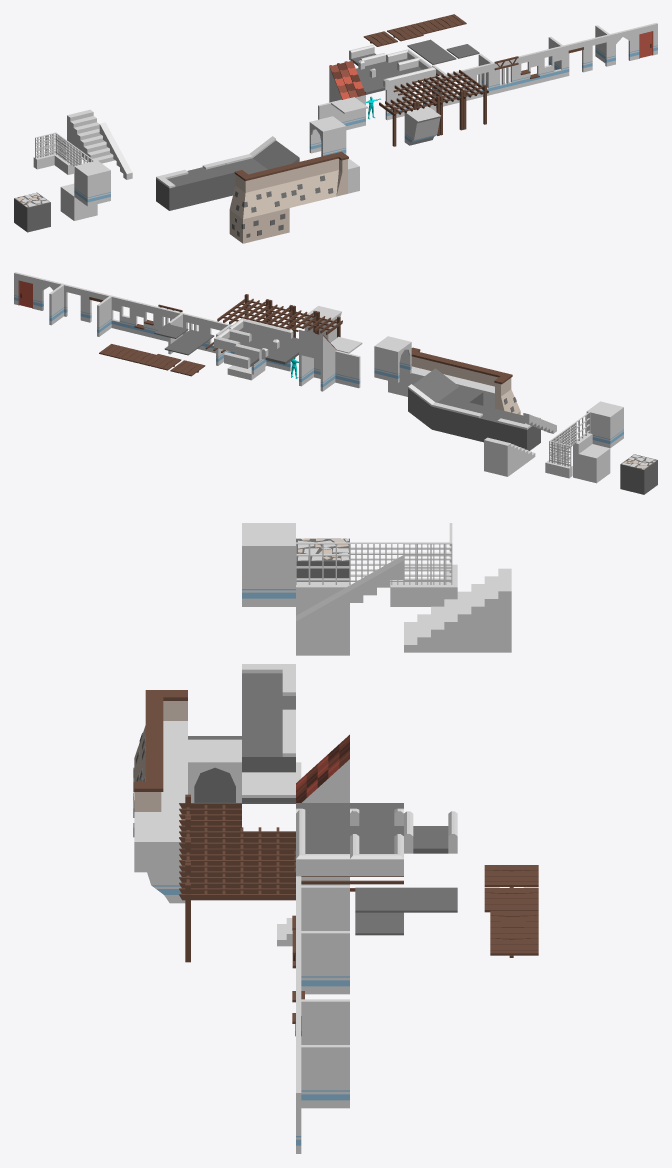
Rendered from House Pieces.fbx.
3 views of the same model, one above another, from view 1: azimuth 30°, elevation 25°; view 2: azimuth 150°, elevation 25°; view 3: azimuth 270°, elevation 25° (orthographic). The views are drawn at different scales.
Parts seen in each view (by area): view 1: Stairs 1, Wall 1 Block, Large Wall Corner 1, Small Arch, Floor 3, Street Corner 1, Wall 1 Arch Segment 1, Roof 2, Large Wall Side 1, Large Wall Side 3, Large Wall Side 2, Large Wall Corner 2 (+34 smaller); view 2: Small Arch, Wall 1 Block, Stairs 1, Floor 3, Floor 1, Wall 1 Corner Window 3, Large Wall Corner 1, Street Side 1 Angle, Wall 1 Corner 3, Street Corner 1, Wall 1 Corner Door, Street Side 2 (+33 smaller); view 3: Stairs 1, Wall 1 Block, Wall 1 Corner Door, Wall 1 Corner Window 2, Wall 1 Arch Segment 1, Short Wall 4, Roof 2, Wall 1 Corner Window 3, Wall 1 Corner Window 1, Small Arch, Pergola Side 2, Floor 3 (+38 smaller).
Part boxes in pixels (box(x1,y1,x2,y2)): Stairs 1: box(67, 109, 114, 163); Wall 1 Block: box(74, 160, 110, 206); Large Wall Corner 1: box(229, 170, 266, 219); Small Arch: box(309, 116, 346, 156); Floor 3: box(14, 192, 50, 232); Street Corner 1: box(156, 171, 192, 210); Wall 1 Arch Segment 1: box(404, 106, 441, 145); Roof 2: box(329, 60, 365, 99); Large Wall Side 1: box(259, 166, 289, 213); Large Wall Side 3: box(306, 155, 336, 202); Large Wall Side 2: box(283, 160, 312, 207); Large Wall Corner 2: box(329, 151, 359, 196); Small Arch: box(374, 336, 411, 382); Wall 1 Block: box(586, 401, 623, 448); Stairs 1: box(484, 437, 535, 476); Floor 3: box(620, 454, 657, 494); Floor 1: box(573, 444, 610, 483); Wall 1 Corner Window 3: box(97, 295, 133, 336); Large Wall Corner 1: box(483, 370, 520, 413); Street Side 1 Angle: box(408, 378, 445, 429); Wall 1 Corner 3: box(299, 352, 335, 391); Street Corner 1: box(503, 414, 540, 450); Wall 1 Corner Door: box(49, 283, 86, 325); Street Side 2: box(455, 402, 492, 440); Stairs 1: box(404, 568, 511, 652); Wall 1 Block: box(242, 523, 295, 606); Wall 1 Corner Door: box(296, 1024, 349, 1108); Wall 1 Corner Window 2: box(296, 910, 349, 994); Wall 1 Arch Segment 1: box(134, 819, 185, 903); Short Wall 4: box(296, 555, 403, 633); Roof 2: box(296, 734, 349, 802); Wall 1 Corner Window 3: box(296, 979, 349, 1044); Wall 1 Corner Window 1: box(296, 876, 349, 930); Small Arch: box(188, 739, 241, 802); Pergola Side 2: box(179, 863, 243, 962); Floor 3: box(296, 538, 349, 581).
Bounding box in the file's own units: 5400 × 858 × 1503.
